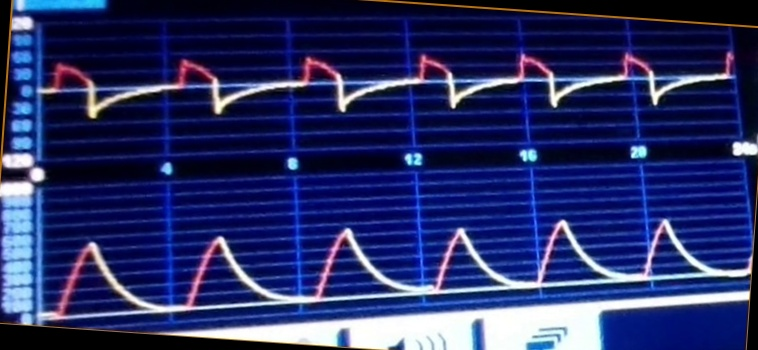Normal Flow: (43, 46, 736, 132)
Normal Volume: (42, 212, 748, 314)
